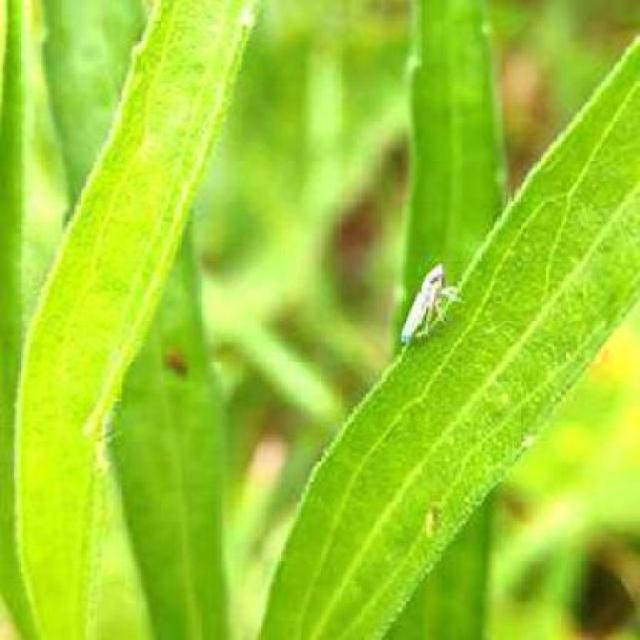green-leafhopper: (401, 256, 468, 342)
